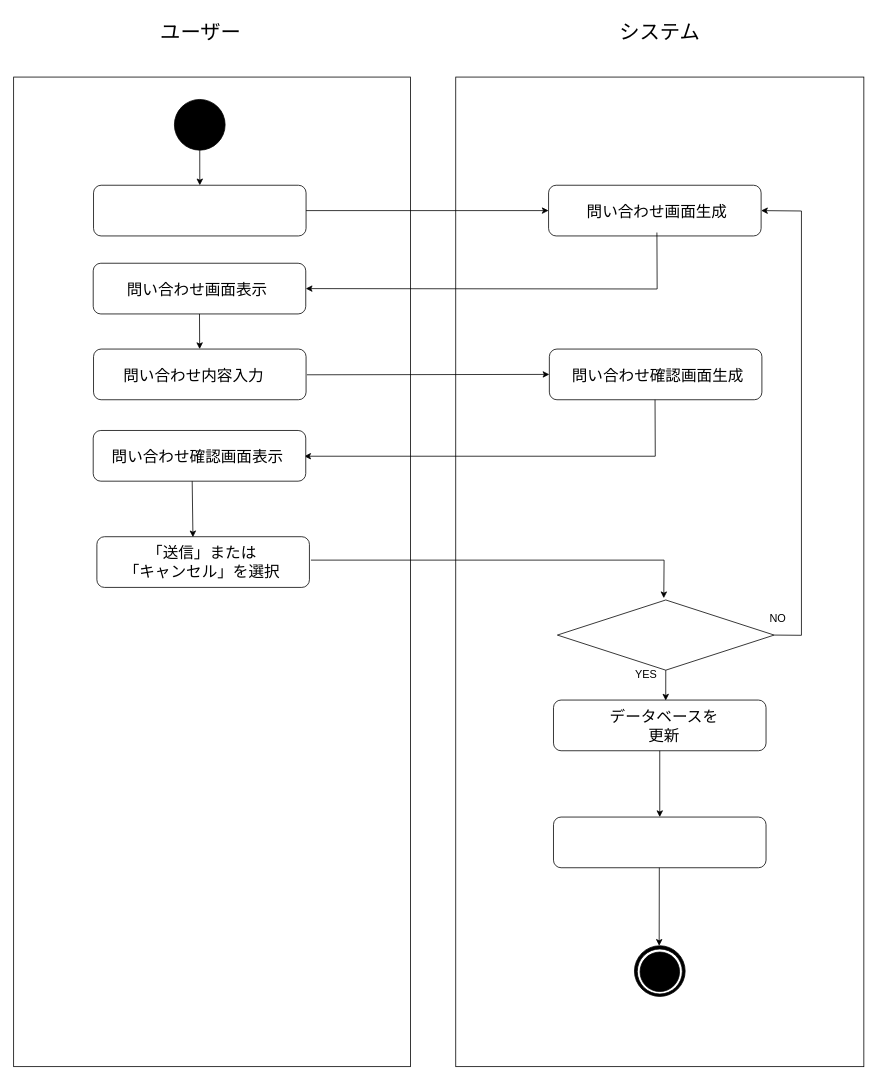
The diagram is 877 pixels wide and 1080 high, and some of its shapes have lost their labels. Each missing label, with the centre of its shape:
"「送信」を選択したか" belongs at (x=665, y=634).
"問い合わせ選択" belongs at (x=199, y=210).
"管理者に通知 メールを送信" belongs at (x=659, y=842).
